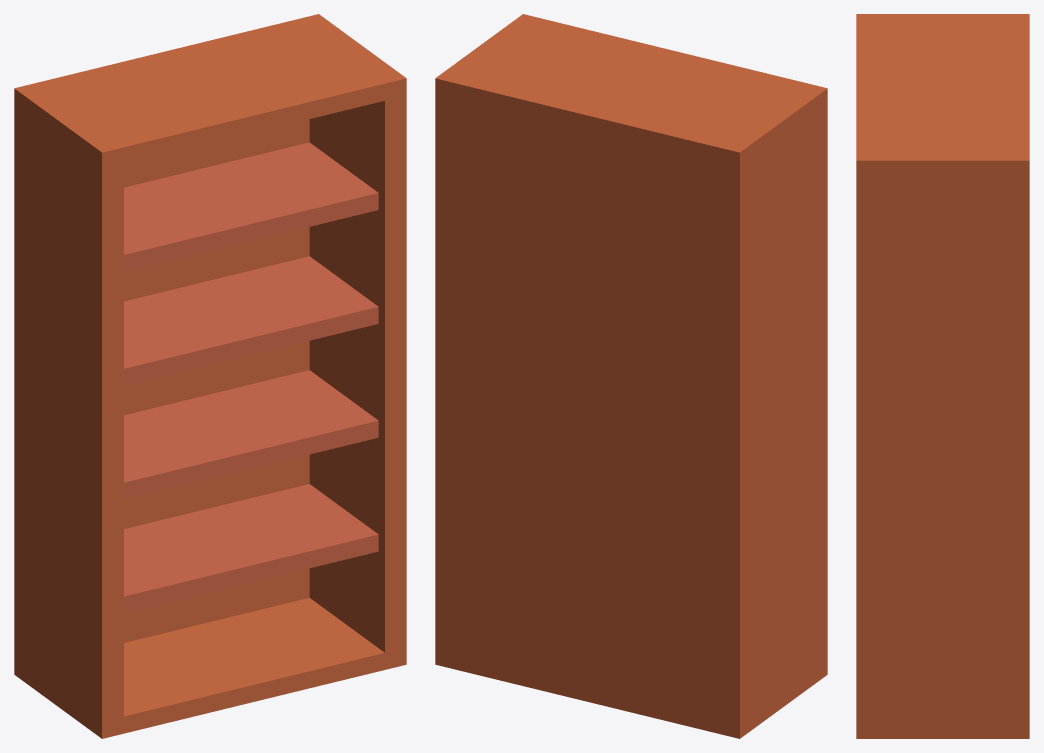
The model's file is Estanteria.fbx.
The picture shows the model from 3 angles, left to right: view 1: azimuth 30°, elevation 25°; view 2: azimuth 150°, elevation 25°; view 3: azimuth 270°, elevation 25°; orthographic projection.
Parts seen in each view (by area): view 1: Cube; view 2: Cube; view 3: Cube.
Part boxes in pixels (box(x1,y1,x2,y2)): Cube: box(14, 14, 406, 738); Cube: box(435, 14, 827, 738); Cube: box(856, 14, 1029, 738).
Size of the model in its own units: 1400 by 2575 by 700.
